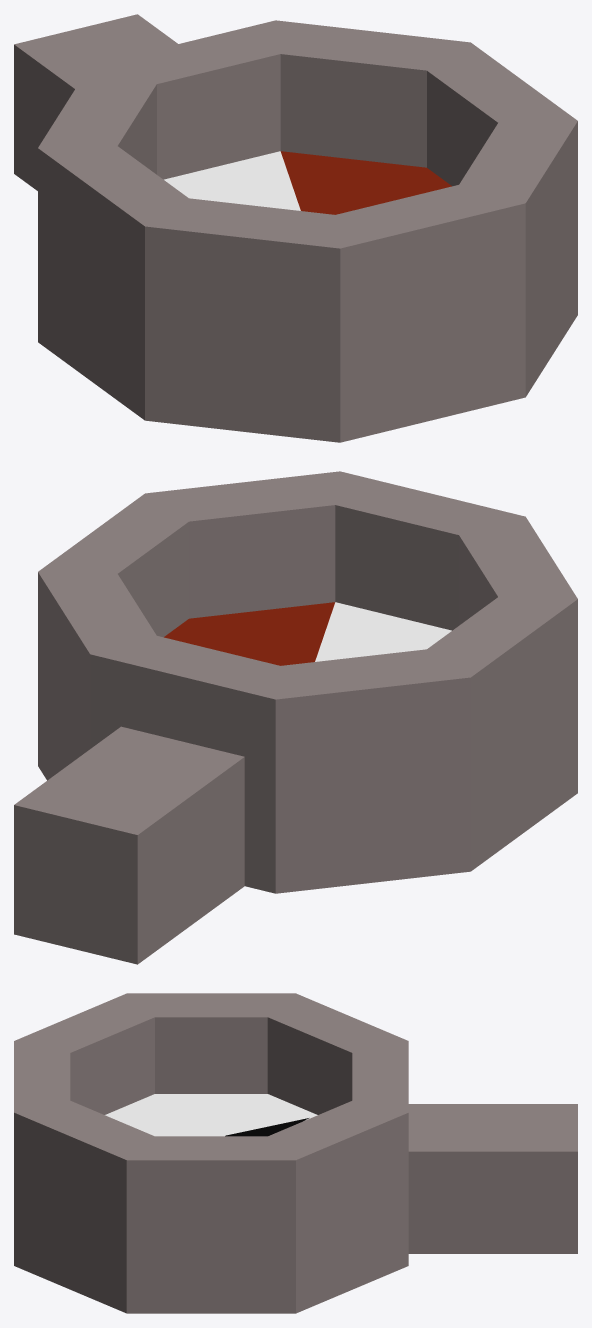
File: inv_pressure_gauge.obj
3 views of the same model, one above another, from view 1: azimuth 30°, elevation 25°; view 2: azimuth 150°, elevation 25°; view 3: azimuth 270°, elevation 25° (orthographic). The views are drawn at different scales.
Size of the model in its own units: 0.2188 by 0.0938 by 0.3125.
